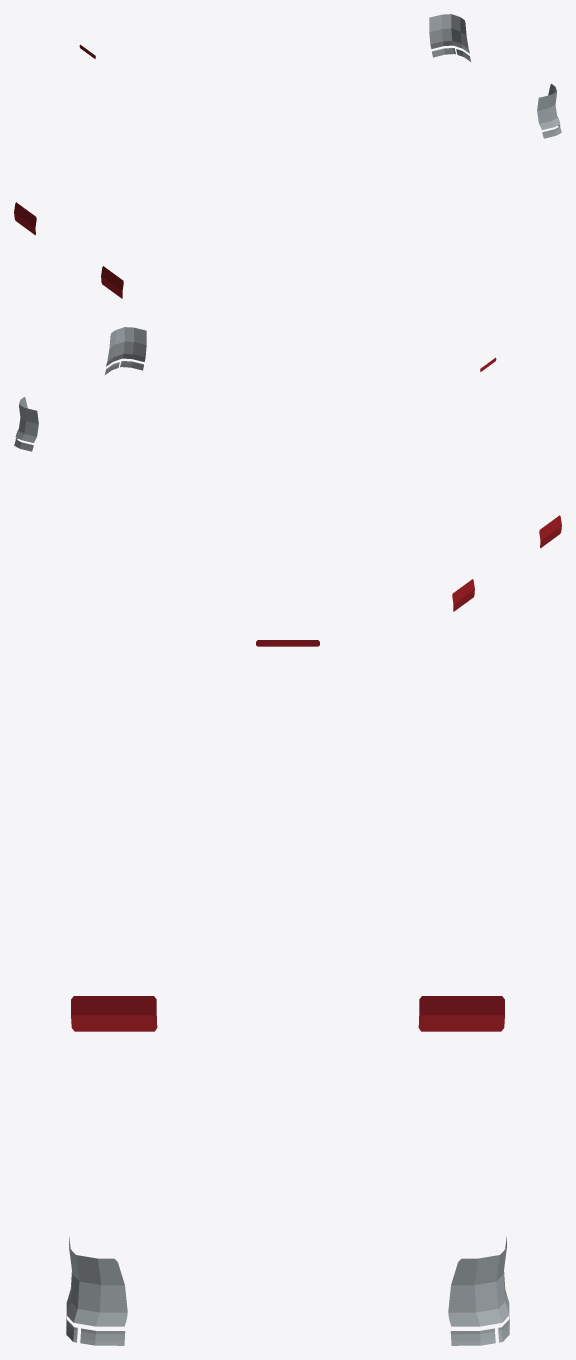
File: kei-every-da17v-405b534e-lamps.glb
The picture shows the model from 3 angles, top to bottom: view 1: azimuth 30°, elevation 25°; view 2: azimuth 150°, elevation 25°; view 3: azimuth 270°, elevation 25°; orthographic projection. The views are drawn at different scales.
Parts seen in each view (by area): view 1: Left_DA17_Main_Reflector, Right_DA17_Main_Reflector, Right_Tail_Lens, Left_Tail_Lens; view 2: Right_DA17_Main_Reflector, Left_DA17_Main_Reflector, Left_Tail_Lens, Right_Tail_Lens; view 3: Left_DA17_Main_Reflector, Right_DA17_Main_Reflector, Left_Tail_Lens, Right_Tail_Lens.
Part boxes in pixels (<box>): Left_DA17_Main_Reflector: <box>429,14,469,53</box>; Right_DA17_Main_Reflector: <box>537,84,560,129</box>; Right_Tail_Lens: <box>101,266,123,298</box>; Left_Tail_Lens: <box>14,202,36,235</box>; Right_DA17_Main_Reflector: <box>106,327,146,366</box>; Left_DA17_Main_Reflector: <box>15,397,38,442</box>; Left_Tail_Lens: <box>452,579,474,611</box>; Right_Tail_Lens: <box>539,515,561,548</box>; Left_DA17_Main_Reflector: <box>448,1236,509,1326</box>; Right_DA17_Main_Reflector: <box>66,1236,127,1326</box>; Left_Tail_Lens: <box>418,996,504,1031</box>; Right_Tail_Lens: <box>71,996,157,1031</box>.
Bounding box in the file's own units: 3.33 × 1.47 × 1.44.
